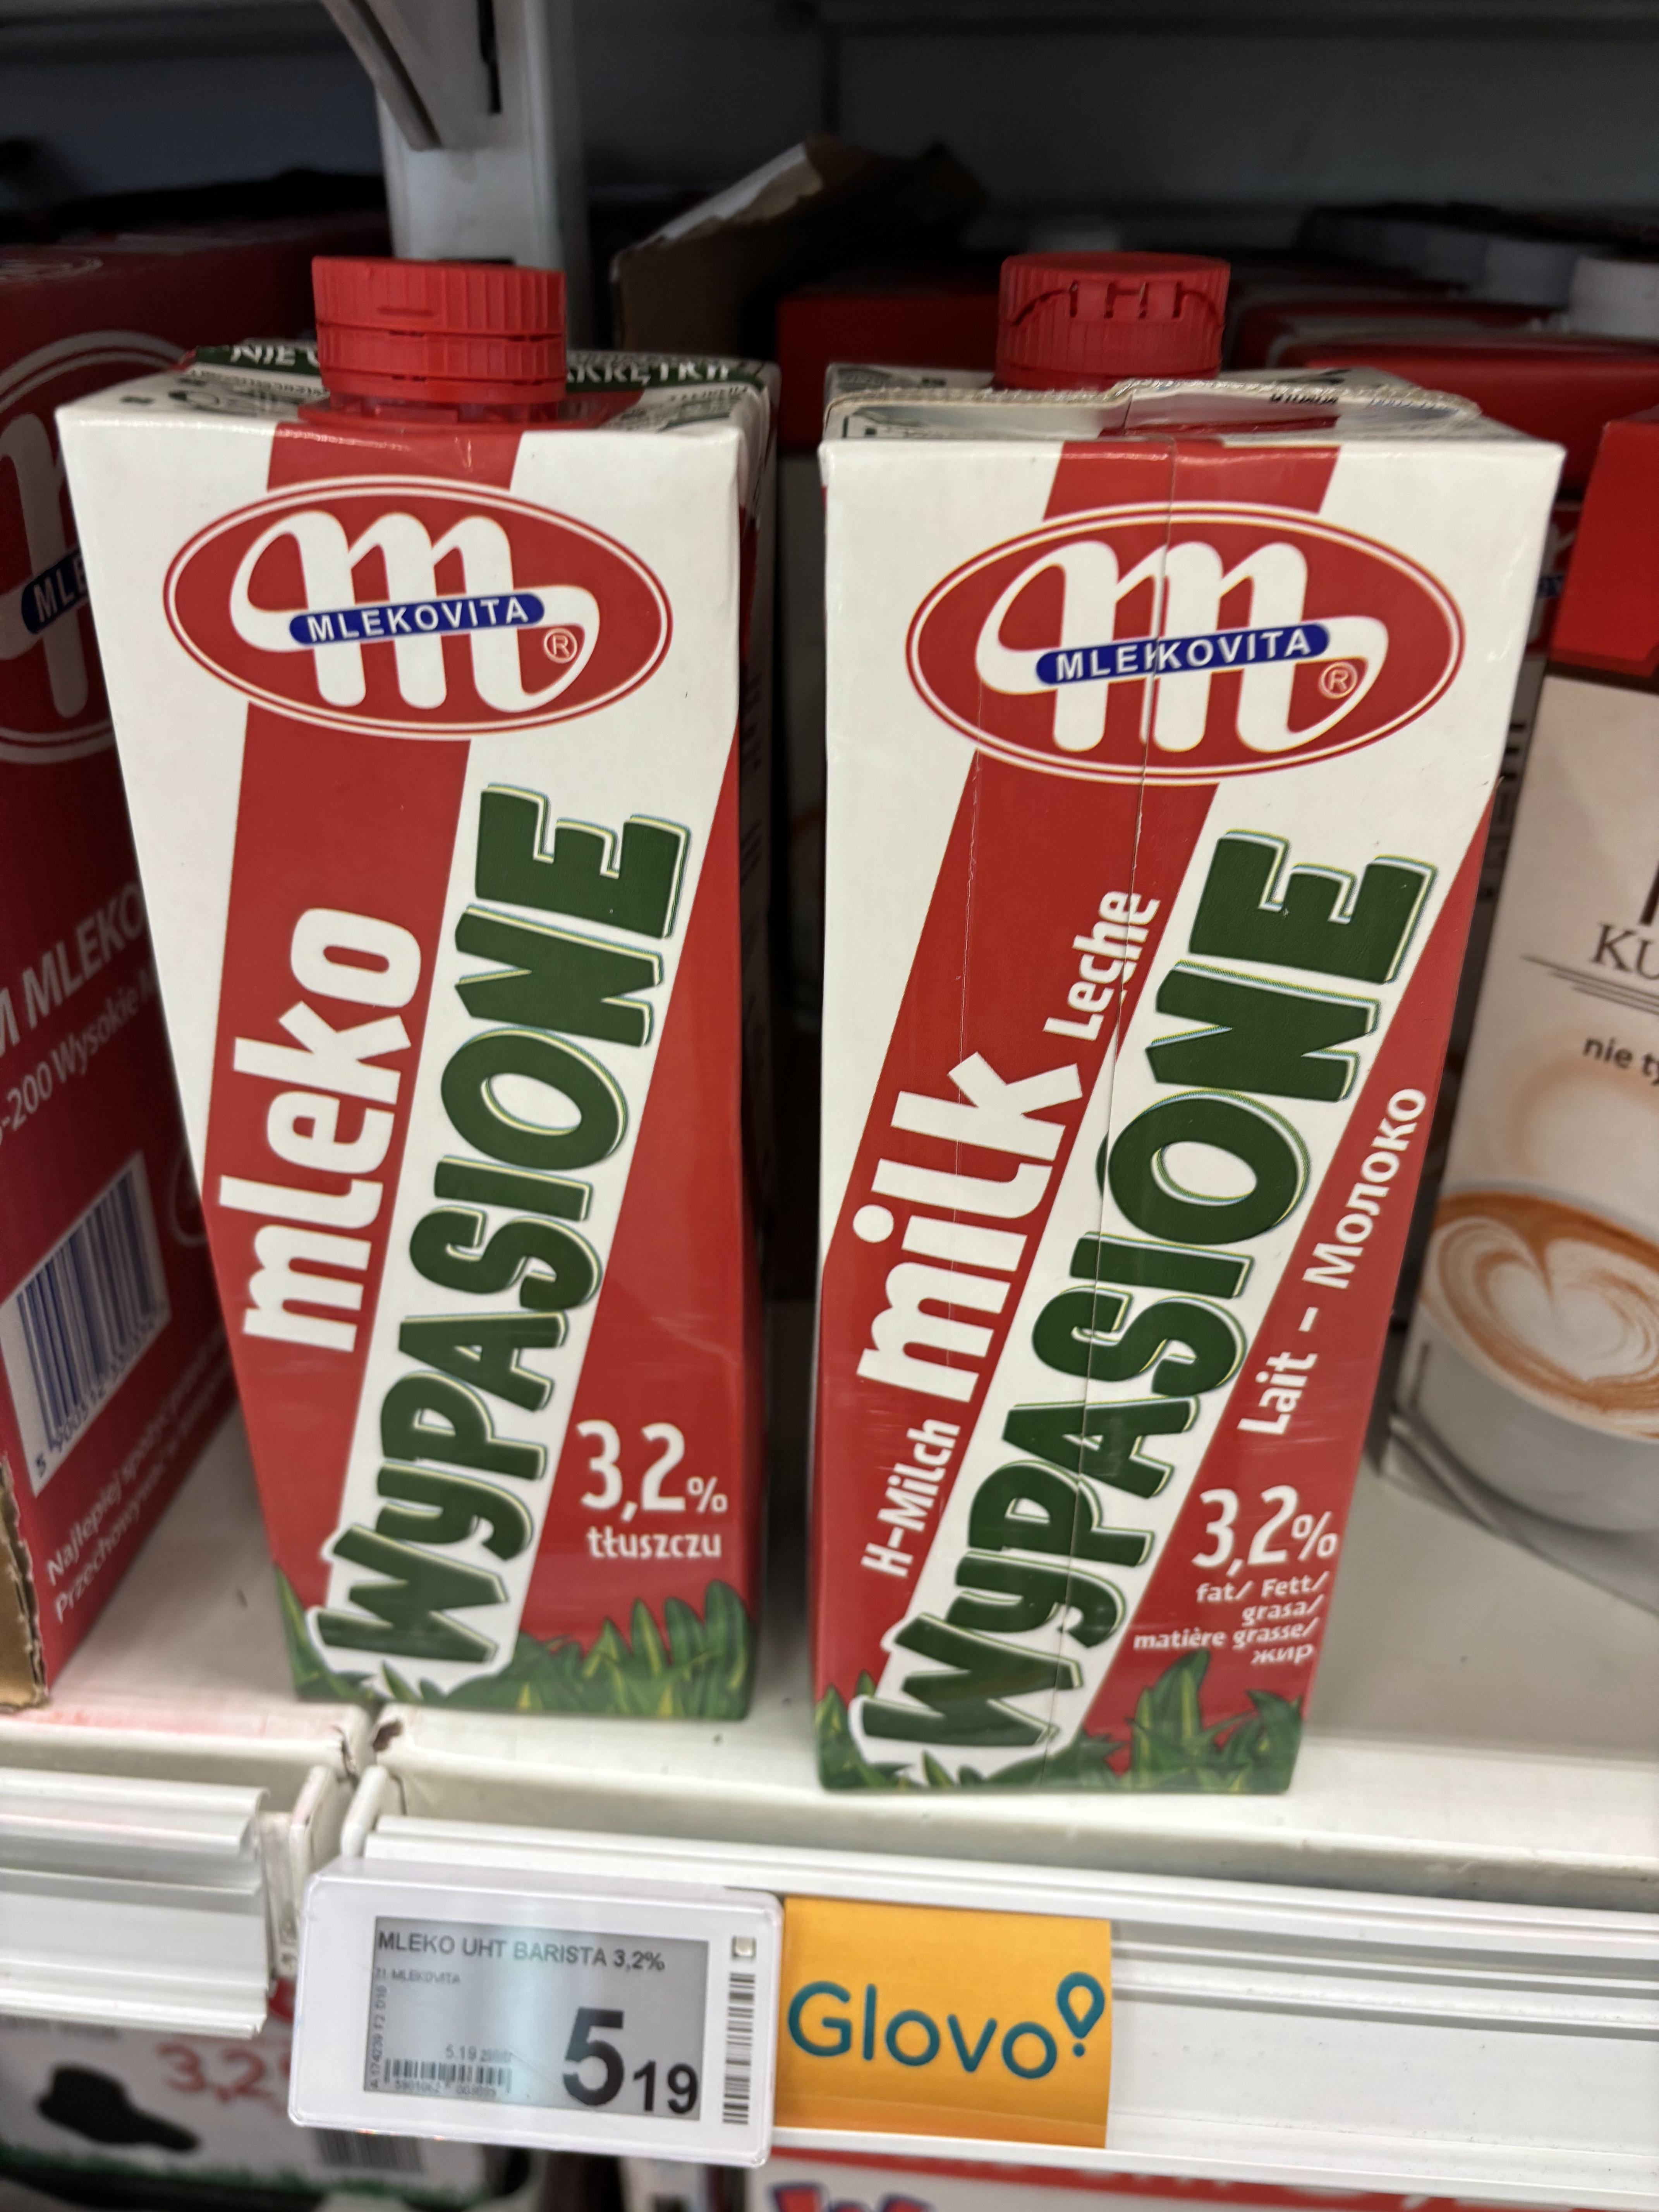Milk: (89, 354, 772, 1764), (840, 345, 1389, 1827)
